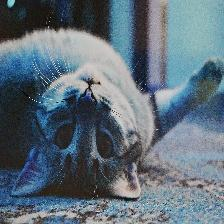kedo: (1, 29, 224, 197)
